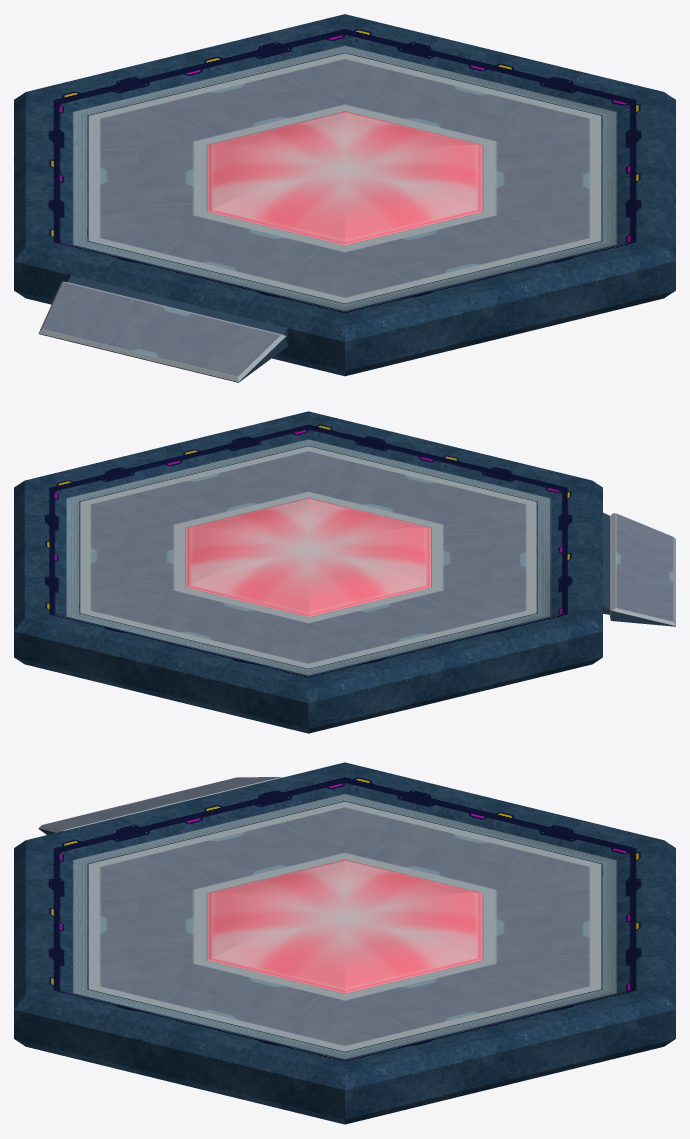
The model's file is entity28624n.gltf.
The picture shows the model from 3 angles, top to bottom: view 1: azimuth 30°, elevation 25°; view 2: azimuth 150°, elevation 25°; view 3: azimuth 270°, elevation 25°; orthographic projection. The views are drawn at different scales.
Parts seen in each view (by area): view 1: node_Museum_Hex_Floor_Piece_a, node_Museum_Hex_Floor_Piece_a_transparency, node_Museum_Hex_Floor_Ramp_Art; view 2: node_Museum_Hex_Floor_Piece_a, node_Museum_Hex_Floor_Piece_a_transparency, node_Museum_Hex_Floor_Ramp_Art; view 3: node_Museum_Hex_Floor_Piece_a, node_Museum_Hex_Floor_Piece_a_transparency, node_Museum_Hex_Floor_Ramp_Art.
Part boxes in pixels (x1,y1,x2,y2): node_Museum_Hex_Floor_Piece_a: [14, 14, 675, 376]; node_Museum_Hex_Floor_Piece_a_transparency: [207, 111, 482, 245]; node_Museum_Hex_Floor_Ramp_Art: [38, 275, 287, 382]; node_Museum_Hex_Floor_Piece_a: [14, 411, 602, 733]; node_Museum_Hex_Floor_Piece_a_transparency: [186, 498, 430, 617]; node_Museum_Hex_Floor_Ramp_Art: [603, 512, 675, 626]; node_Museum_Hex_Floor_Piece_a: [14, 762, 675, 1124]; node_Museum_Hex_Floor_Piece_a_transparency: [207, 859, 482, 993]; node_Museum_Hex_Floor_Ramp_Art: [38, 777, 281, 834].
Size of what is drawn, in the model's own units: 14.68 by 1.03 by 12.18.
Materials: 4 (4 with a texture image).
